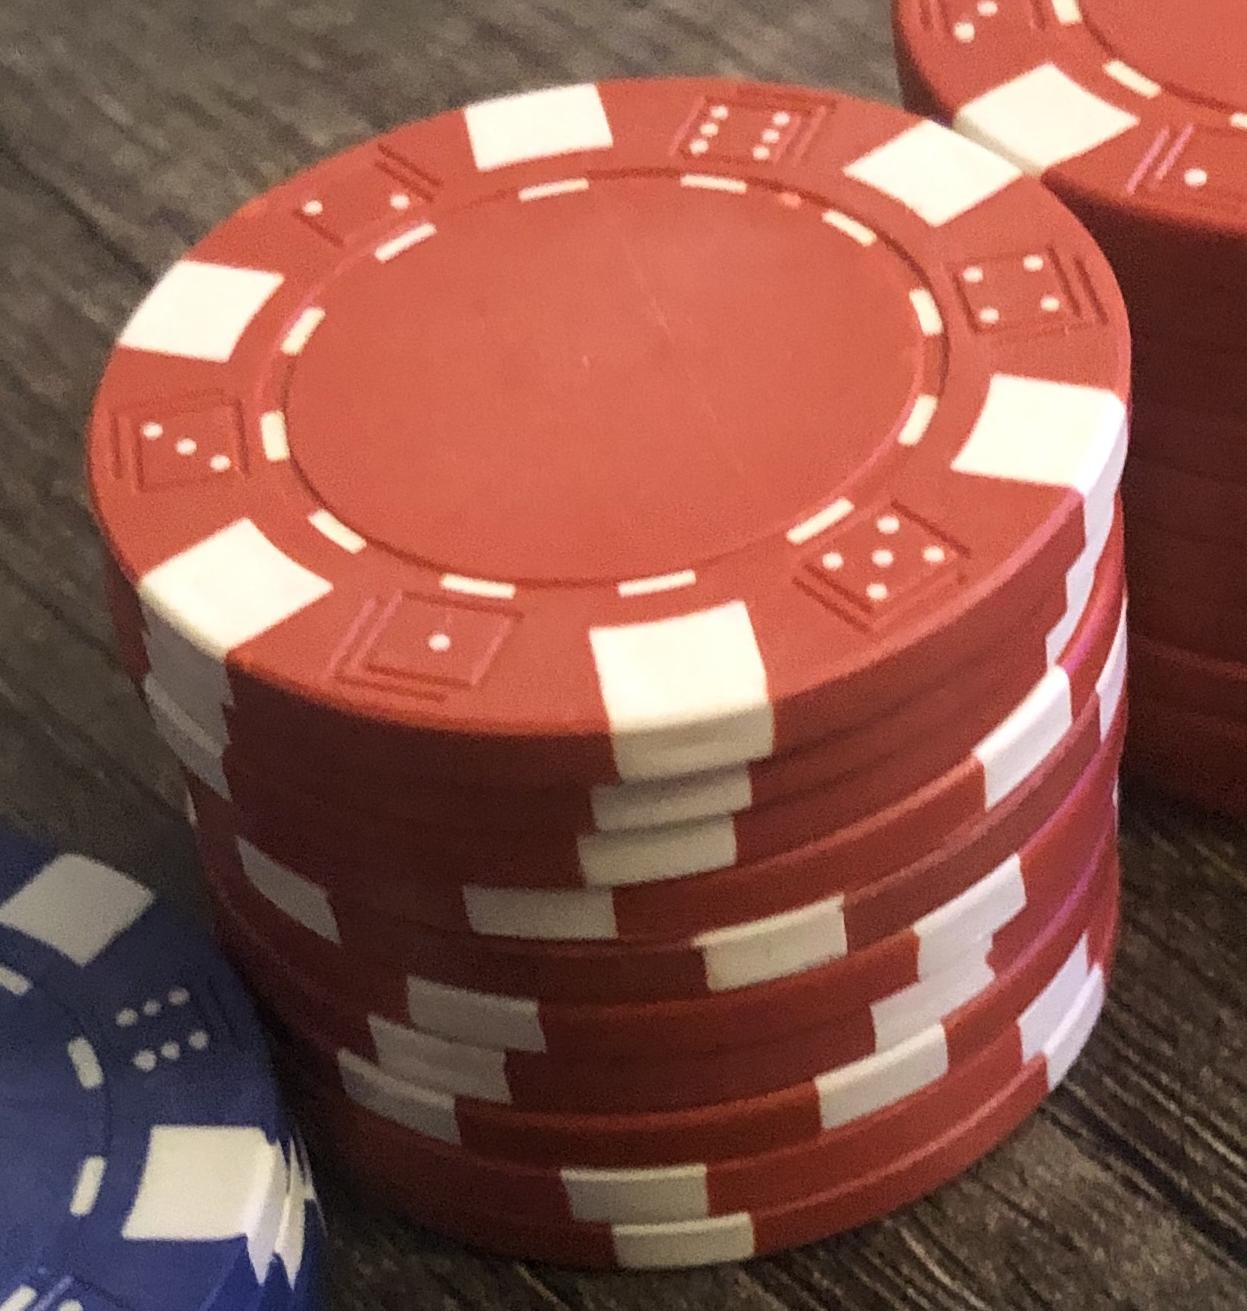Chip: (1, 1, 1247, 1311)
